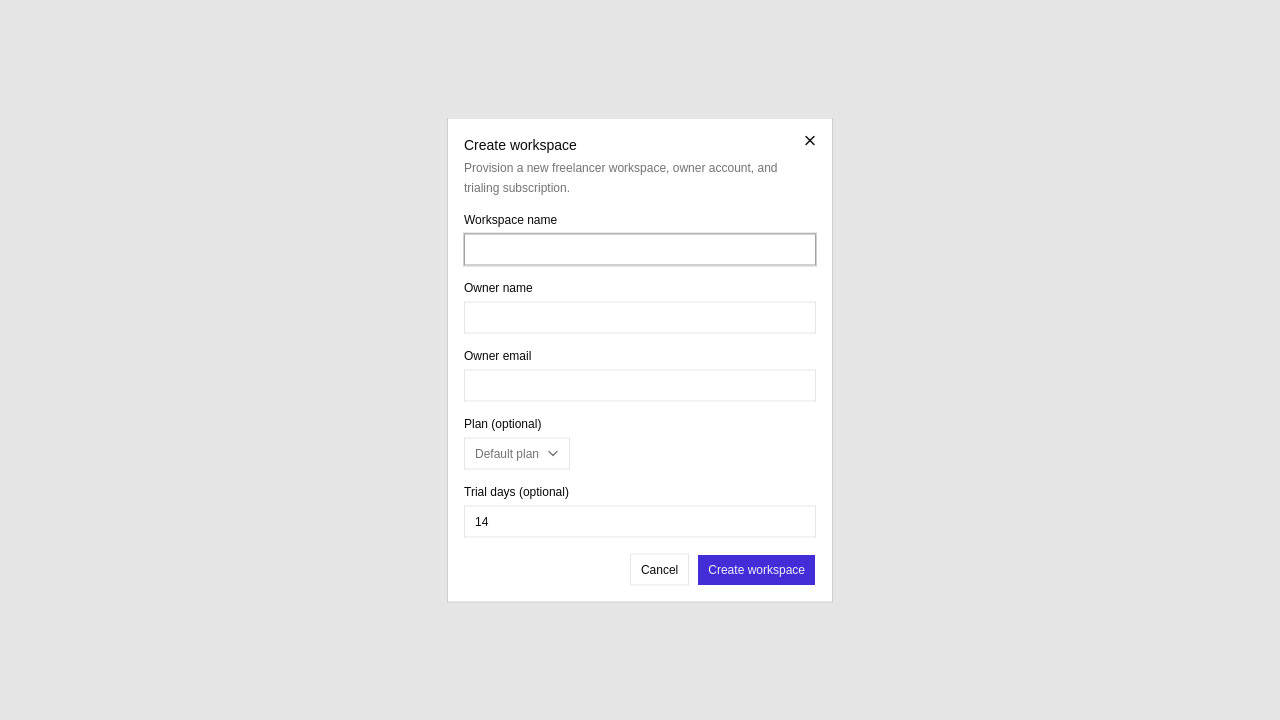
CreateFreelancerDialog › rejects invalid email before submit
In the field labelled "Workspace name": (640, 250) [464,234,816,266], type "New Studio"
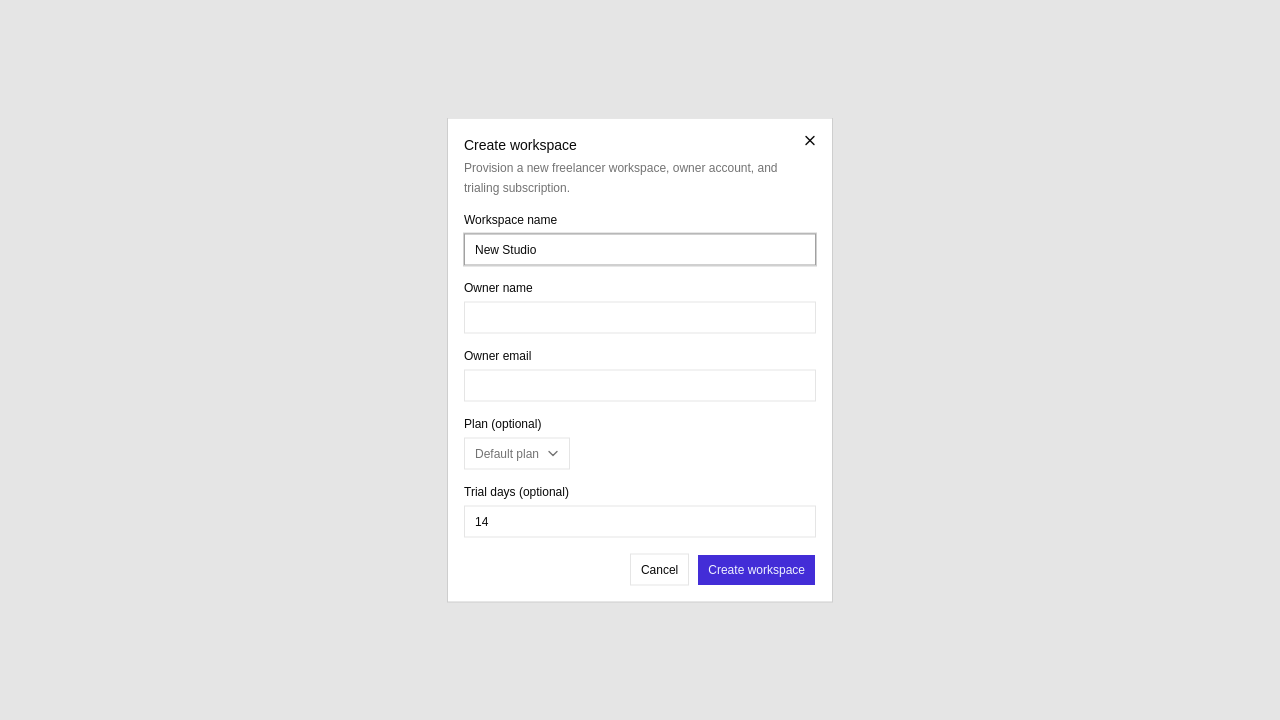
In the field labelled "Owner name": (640, 318) [464,302,816,334], type "Owner"
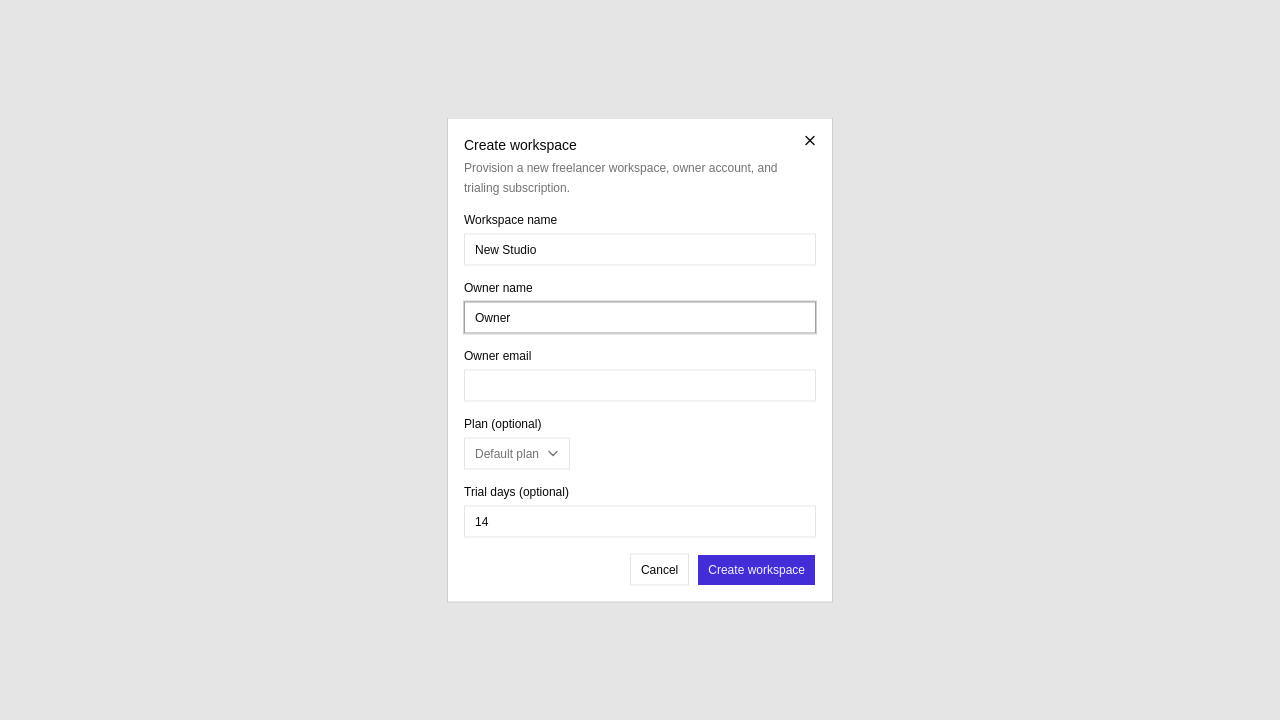
In the field labelled "Owner email": (640, 386) [464,370,816,402], type "not-an-email"
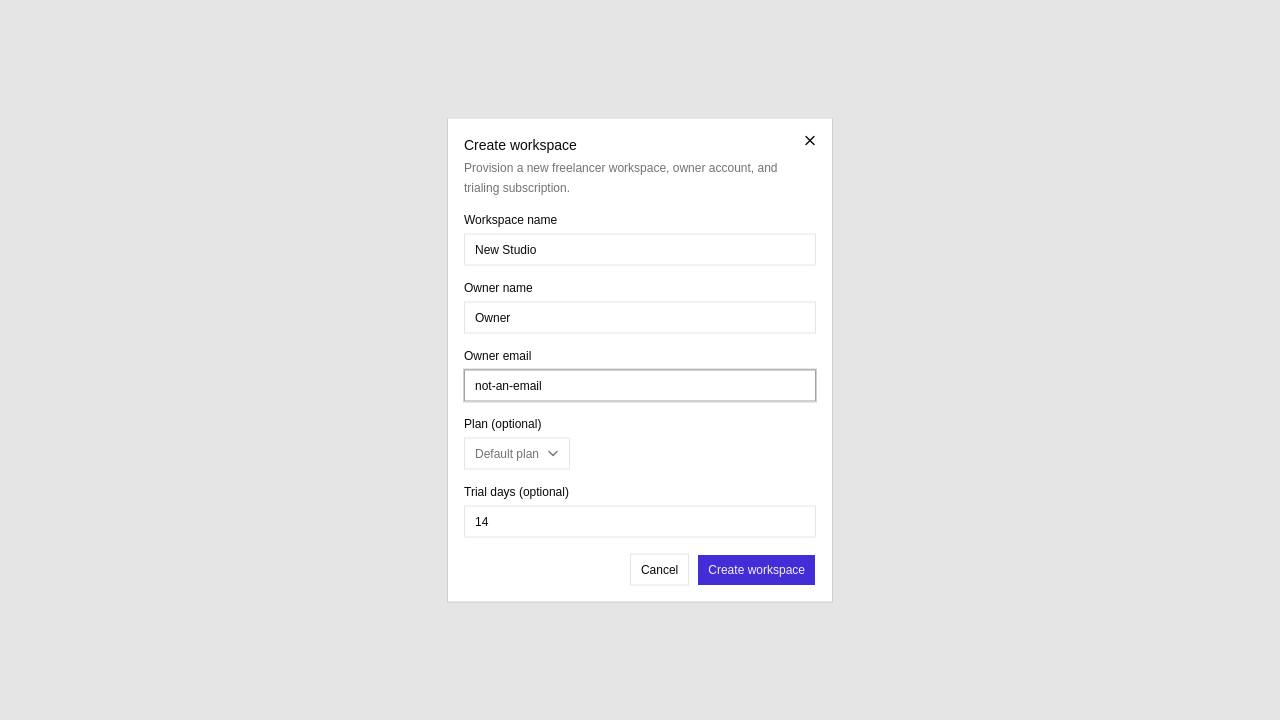
Click the button "Create workspace": click(757, 570) [697,554,816,586]
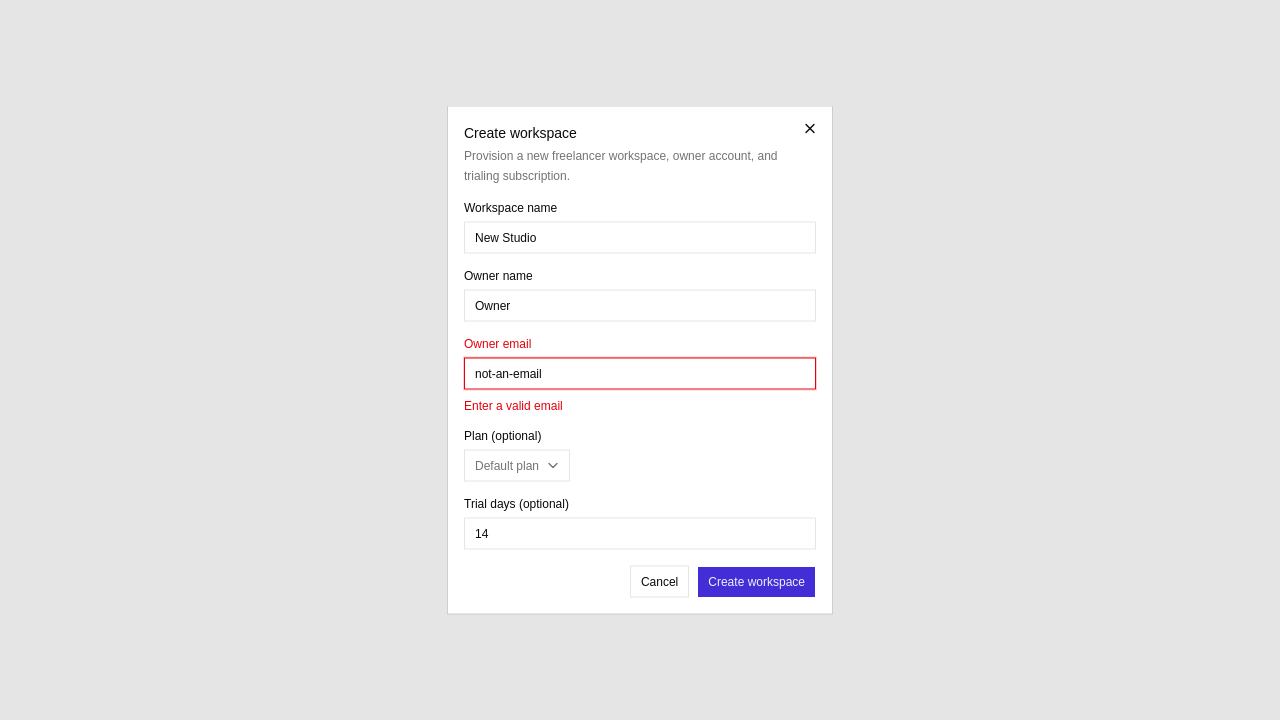
Now the text "Enter a valid email" is shown, box [464,398,563,412]
